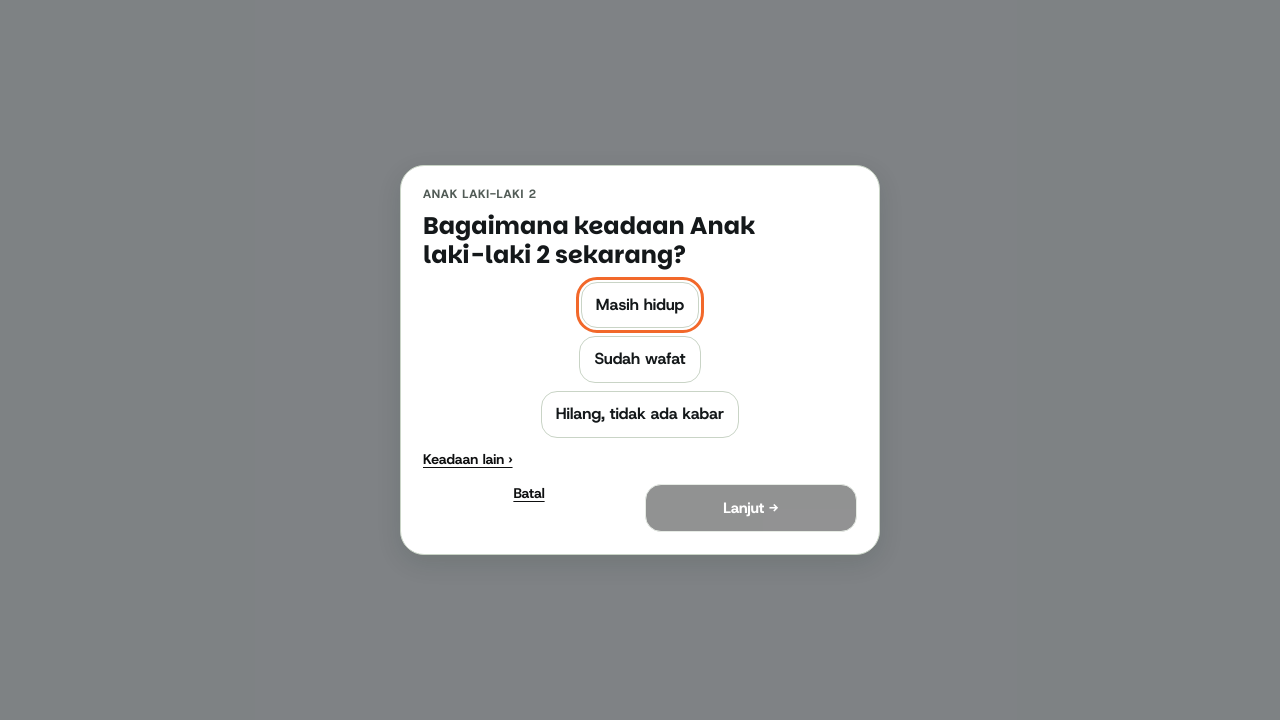
Scenario: DialogKeadaan › menolak bersamaan bila sudah ada urutan wafat lain
Click the radio button labelled "Sudah wafat": (640, 360) [580,336,700,383]
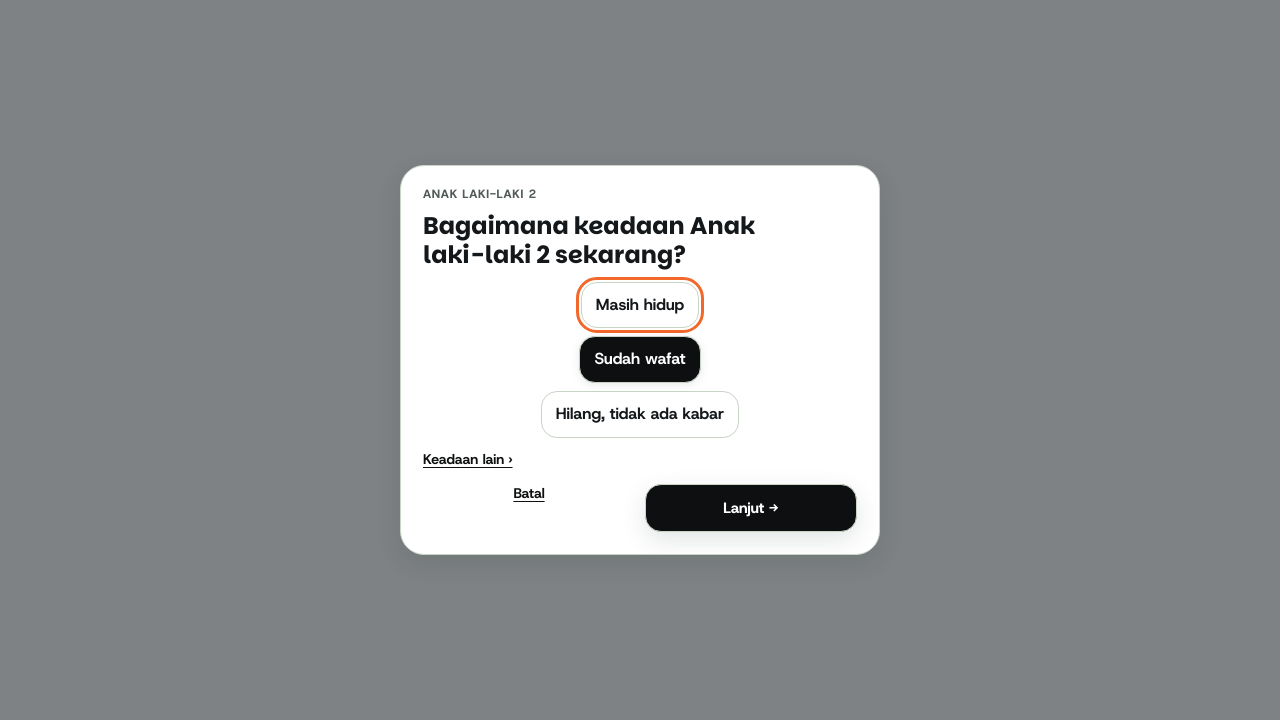
Click the button "Lanjut →": (751, 508) [645,484,857,532]
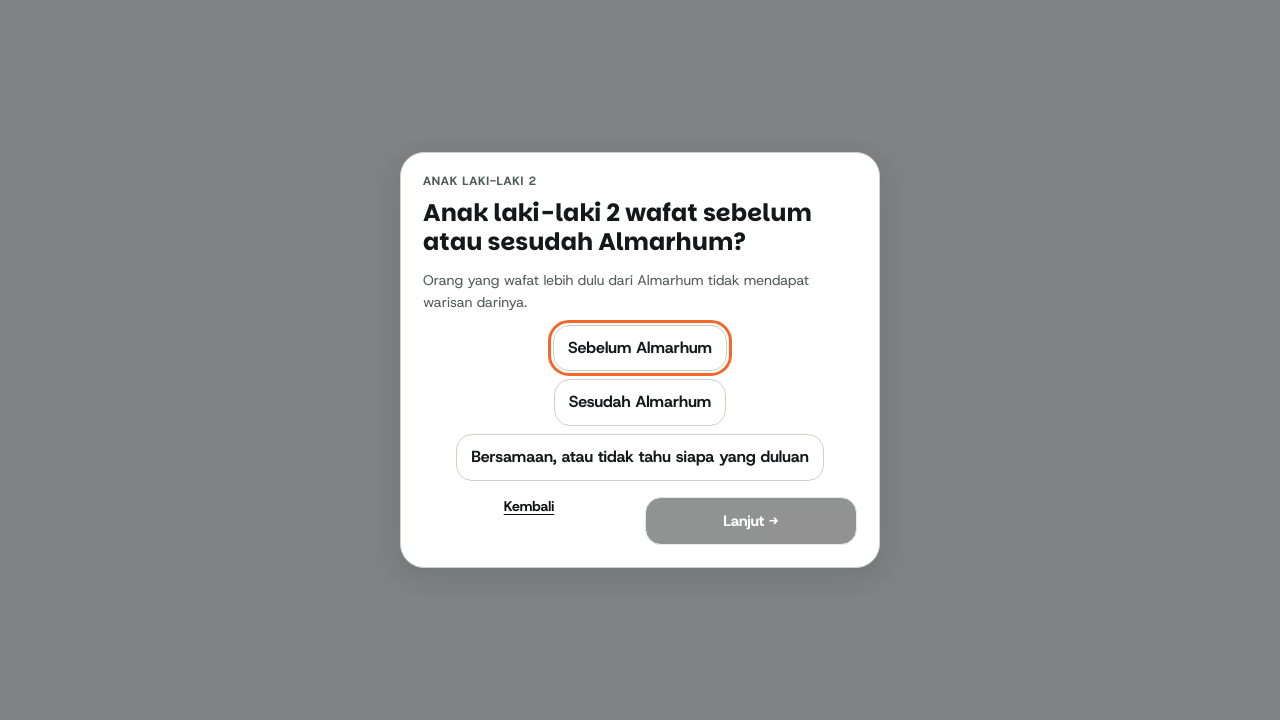
Click the radio button labelled "Bersamaan, atau tidak tahu siapa yang duluan": (640, 458) [456,434,824,481]
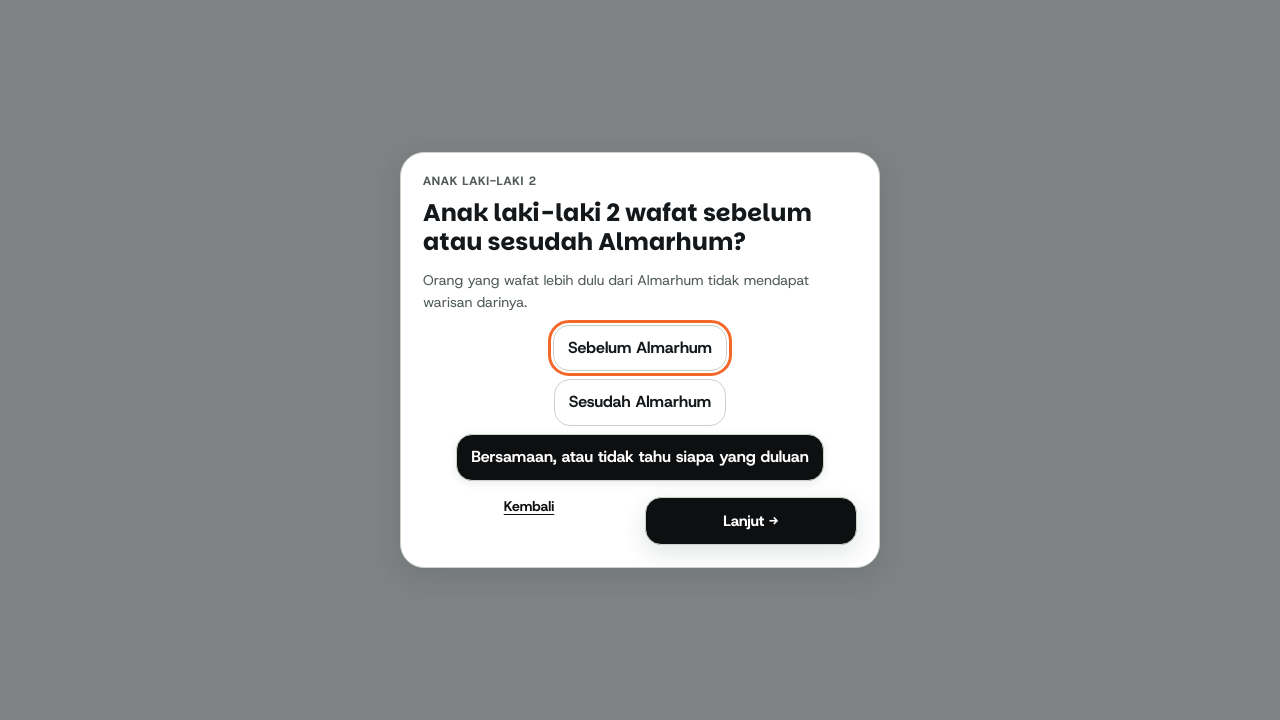
Click the button "Lanjut →": (751, 521) [645,497,857,545]
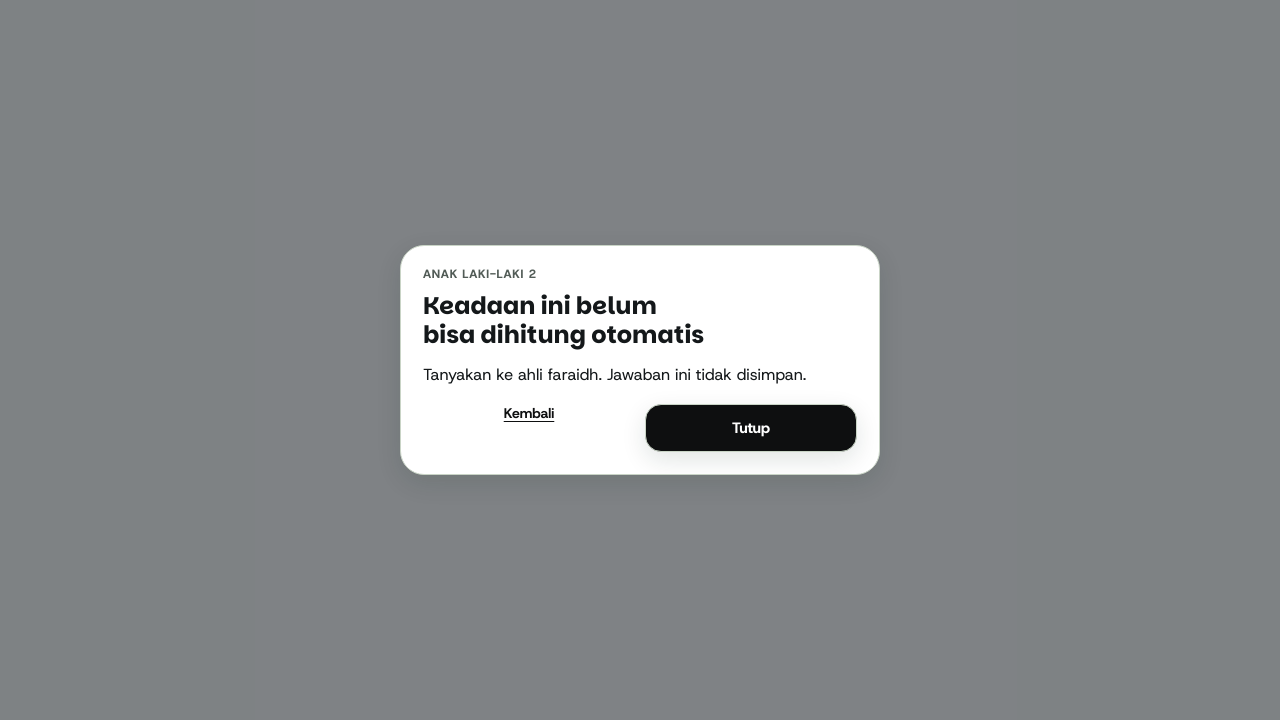
expect the heading "Keadaan ini belum bisa dihitung otomatis" is shown: met, box [423,289,704,351]
